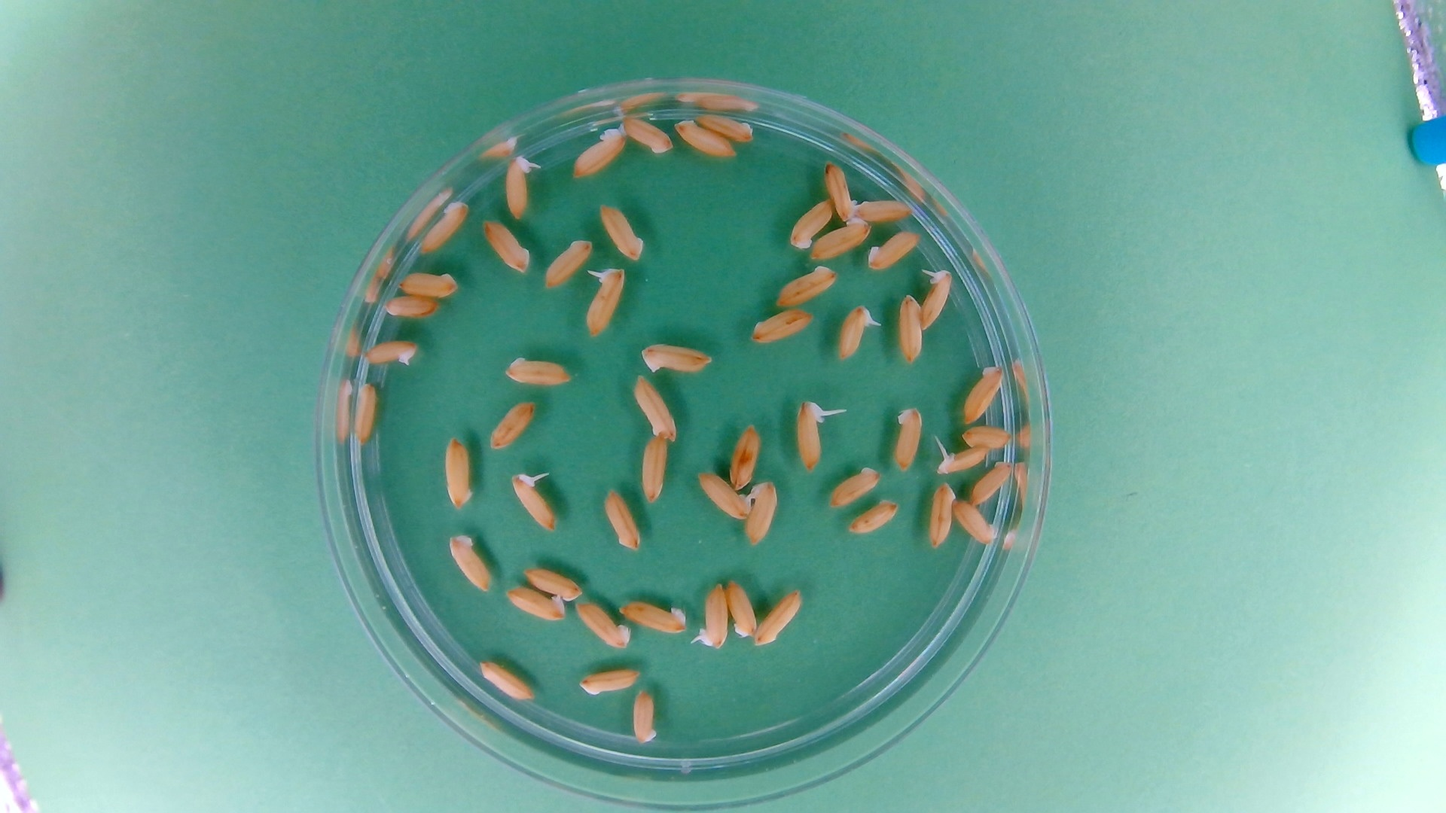no: (632, 373, 680, 443), (569, 124, 627, 181), (415, 197, 470, 257), (959, 359, 1006, 426), (694, 468, 753, 521), (596, 200, 647, 261), (753, 586, 804, 647), (444, 531, 493, 594), (773, 263, 840, 309), (480, 217, 532, 276), (574, 598, 633, 650), (807, 217, 871, 263), (541, 234, 593, 290), (600, 486, 642, 553), (475, 656, 536, 702), (672, 117, 737, 160), (616, 597, 690, 634), (439, 433, 474, 511), (865, 227, 924, 273), (486, 397, 536, 451), (639, 340, 714, 376), (749, 306, 816, 346), (786, 194, 833, 251), (741, 478, 779, 547), (828, 463, 883, 510), (890, 403, 926, 473), (502, 353, 573, 388), (822, 157, 859, 223), (502, 585, 566, 623), (618, 113, 673, 157), (950, 498, 999, 547), (727, 420, 761, 490), (638, 432, 670, 504), (522, 564, 584, 601), (394, 266, 462, 299), (845, 496, 901, 536), (894, 292, 925, 364), (969, 458, 1014, 507), (925, 480, 956, 549), (349, 378, 380, 447), (691, 111, 757, 143), (725, 576, 758, 639), (577, 666, 642, 697), (360, 336, 420, 367), (630, 687, 659, 745), (380, 294, 440, 321), (958, 422, 1013, 451), (859, 193, 910, 223)
yes: (582, 264, 626, 337), (510, 470, 557, 533), (836, 302, 877, 361), (694, 581, 729, 649), (918, 266, 954, 332), (794, 398, 826, 472), (503, 154, 538, 221), (933, 444, 991, 475)
